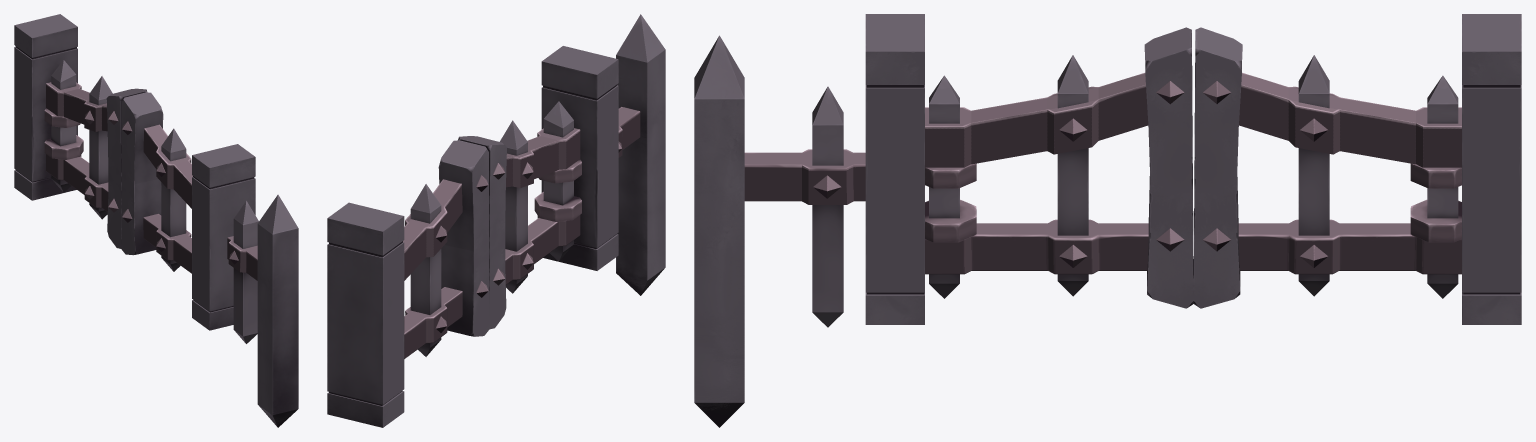
The model's file is metal gate 2.fbx.
3 renders of one model, left to right at view 1: azimuth 30°, elevation 25°; view 2: azimuth 150°, elevation 25°; view 3: azimuth 270°, elevation 25°, orthographic. The views are drawn at different scales.
Visible parts, largest first — view 1: Cube.012, Cube.031, Cube.013, Cube.018, Cube.014, Cube.017, Cube.032, Cube.015, Cylinder, Cube.033, Cube.020, Cube.019; view 2: Cube.012, Cube.031, Cube.013, Cube.018, Cube.014, Cube.017, Cube.015, Cylinder, Cube.033, Cube.020, Cube.019; view 3: Cube.012, Cube.013, Cube.018, Cube.017, Cube.031, Cube.014, Cube.032, Cube.033, Cube.015, Cylinder, Cube.019, Cube.020.
Boxes of the visible parts, x1,y1,x2,y2 form: Cube.012: (14,14,255,330); Cube.031: (257,194,298,427); Cube.013: (106,88,163,255); Cube.018: (46,82,192,208); Cube.014: (89,76,186,271); Cube.017: (46,154,191,273); Cube.032: (233,200,258,343); Cube.015: (51,60,76,192); Cylinder: (44,108,83,159); Cube.033: (227,236,257,280); Cube.020: (108,111,132,222); Cube.019: (84,111,165,251); Cube.012: (327,46,618,427); Cube.031: (616,14,665,295); Cube.013: (438,136,506,336); Cube.018: (403,128,580,280); Cube.014: (410,120,527,356); Cube.017: (404,215,580,358); Cube.015: (543,101,573,261); Cylinder: (534,159,581,221); Cube.033: (618,107,640,157); Cube.020: (476,163,505,297); Cube.019: (435,162,533,332); Cube.012: (865,14,1521,324); Cube.013: (1144,27,1242,308); Cube.018: (925,72,1461,167); Cube.017: (925,219,1461,274); Cube.031: (694,35,744,427); Cube.014: (1057,55,1329,296); Cube.032: (812,86,843,327); Cube.033: (744,149,865,204); Cube.015: (929,75,1458,298); Cylinder: (925,163,1461,242); Cube.019: (1059,118,1327,267); Cube.020: (1156,81,1230,251).
Bounding box in the file's own units: 66.06 × 322 × 613.
